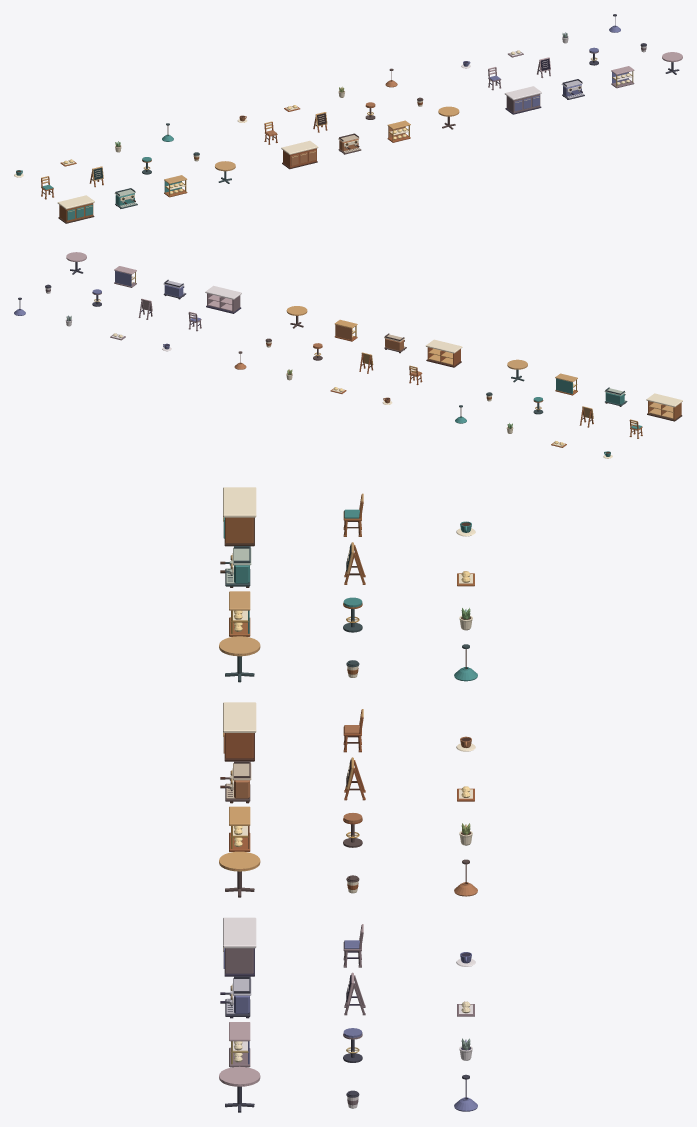
File: sunbeam-cafe-native.glb
3 views of the same model, one above another, from view 1: azimuth 30°, elevation 25°; view 2: azimuth 150°, elevation 25°; view 3: azimuth 270°, elevation 25° (orthographic). The views are drawn at different scales.
Parts seen in each view (by area): view 1: Twilight__01_Service_Counter__Body, Classic__01_Service_Counter__Body, Warm__01_Service_Counter__Body, Classic__03_Pastry_Display__Body, Twilight__03_Pastry_Display__Body, Warm__03_Pastry_Display__Body, Warm__02_Espresso_Machine__Body, Classic__02_Espresso_Machine__Body, Twilight__02_Espresso_Machine__Body; view 2: Classic__01_Service_Counter__Body, Warm__01_Service_Counter__Body, Twilight__01_Service_Counter__Body, Warm__03_Pastry_Display__Body, Twilight__03_Pastry_Display__Body, Classic__03_Pastry_Display__Body, Twilight__02_Espresso_Machine__Body, Classic__02_Espresso_Machine__Body; view 3: Twilight__01_Service_Counter__Body, Warm__01_Service_Counter__Body, Classic__01_Service_Counter__Body, Warm__02_Espresso_Machine__Body, Classic__02_Espresso_Machine__Body, Twilight__02_Espresso_Machine__Body, Warm__03_Pastry_Display__Body, Classic__03_Pastry_Display__Body, Twilight__03_Pastry_Display__Body, Classic__04_Round_Cafe_Table__Body, Warm__04_Round_Cafe_Table__Body, Twilight__04_Round_Cafe_Table__Body.
Part boxes in pixels (x1,y1,x2,y2): Twilight__01_Service_Counter__Body: (504,86,541,114); Classic__01_Service_Counter__Body: (57,195,94,223); Warm__01_Service_Counter__Body: (281,140,318,169); Classic__03_Pastry_Display__Body: (164,175,187,197); Twilight__03_Pastry_Display__Body: (611,66,634,88); Warm__03_Pastry_Display__Body: (387,120,410,142); Warm__02_Espresso_Machine__Body: (338,133,361,154); Classic__02_Espresso_Machine__Body: (114,188,137,208); Twilight__02_Espresso_Machine__Body: (561,79,584,99); Classic__01_Service_Counter__Body: (646,393,682,421); Warm__01_Service_Counter__Body: (426,339,462,367); Twilight__01_Service_Counter__Body: (205,285,241,313); Warm__03_Pastry_Display__Body: (334,319,357,341); Twilight__03_Pastry_Display__Body: (114,266,136,287); Classic__03_Pastry_Display__Body: (555,373,577,395); Twilight__02_Espresso_Machine__Body: (163,279,186,299); Classic__02_Espresso_Machine__Body: (604,387,627,406); Twilight__01_Service_Counter__Body: (223,917,256,976); Warm__01_Service_Counter__Body: (223,702,256,761); Classic__01_Service_Counter__Body: (223,487,256,546); Warm__02_Espresso_Machine__Body: (220,761,251,803); Classic__02_Espresso_Machine__Body: (220,546,251,587); Twilight__02_Espresso_Machine__Body: (220,976,251,1018); Warm__03_Pastry_Display__Body: (229,806,250,851); Classic__03_Pastry_Display__Body: (229,591,250,636); Twilight__03_Pastry_Display__Body: (229,1022,250,1067); Classic__04_Round_Cafe_Table__Body: (219,636,260,682); Warm__04_Round_Cafe_Table__Body: (219,851,260,897); Twilight__04_Round_Cafe_Table__Body: (219,1066,260,1112).
Size of the model in its own units: 99.82 by 2.78 by 18.32.
Materials: 3 (3 with a texture image).
